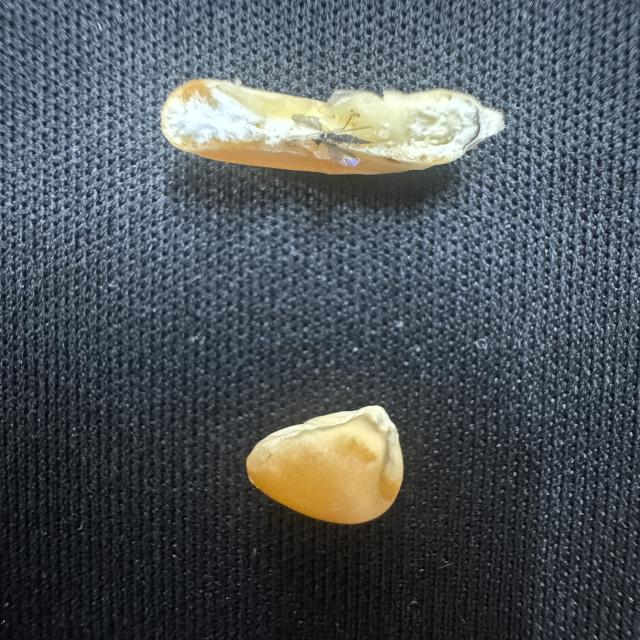Bad-Seed: (152, 68, 520, 184), (242, 399, 418, 528)
